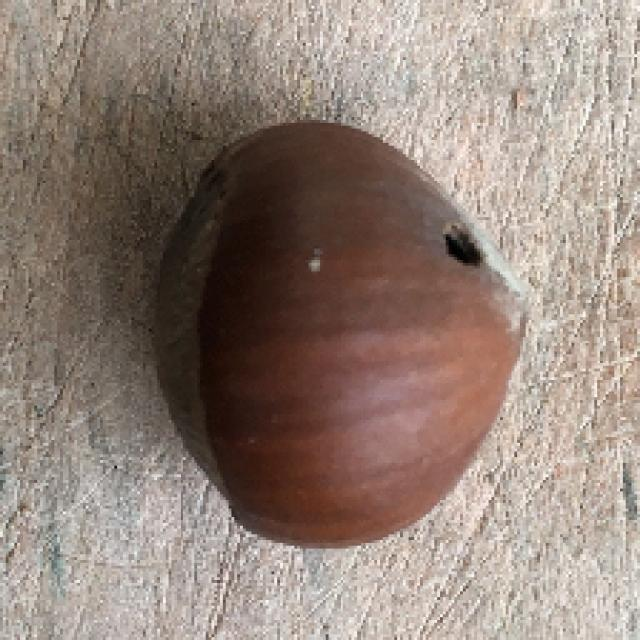damagedHazelnut: (154, 112, 526, 562)
